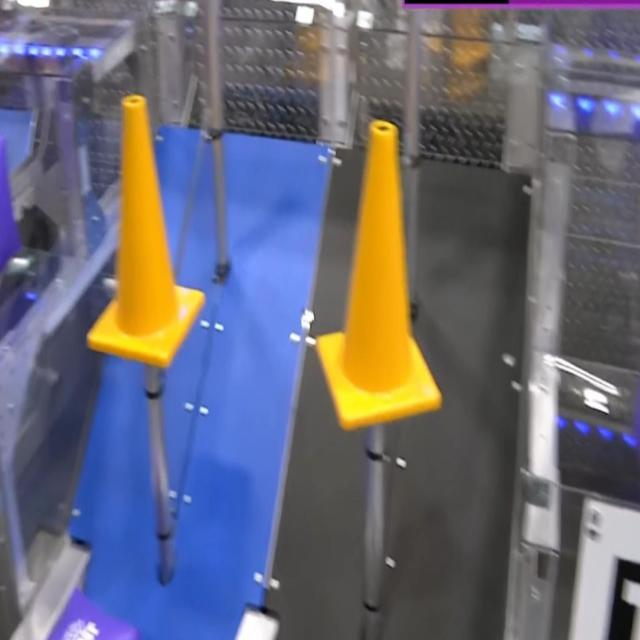frc_cone: (316, 121, 444, 428), (86, 96, 206, 364)
frc_cube: (41, 586, 142, 640), (0, 137, 24, 278)
